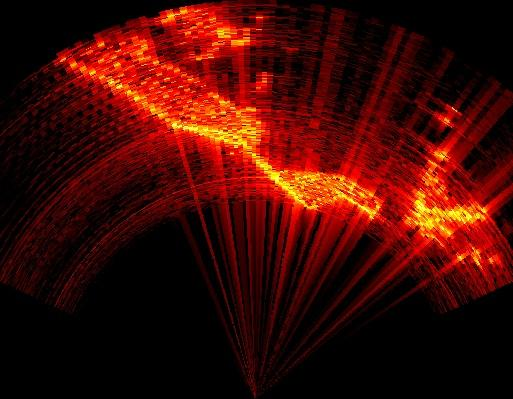shipwreck: (59, 32, 382, 219), (402, 151, 491, 245), (157, 7, 250, 60)
